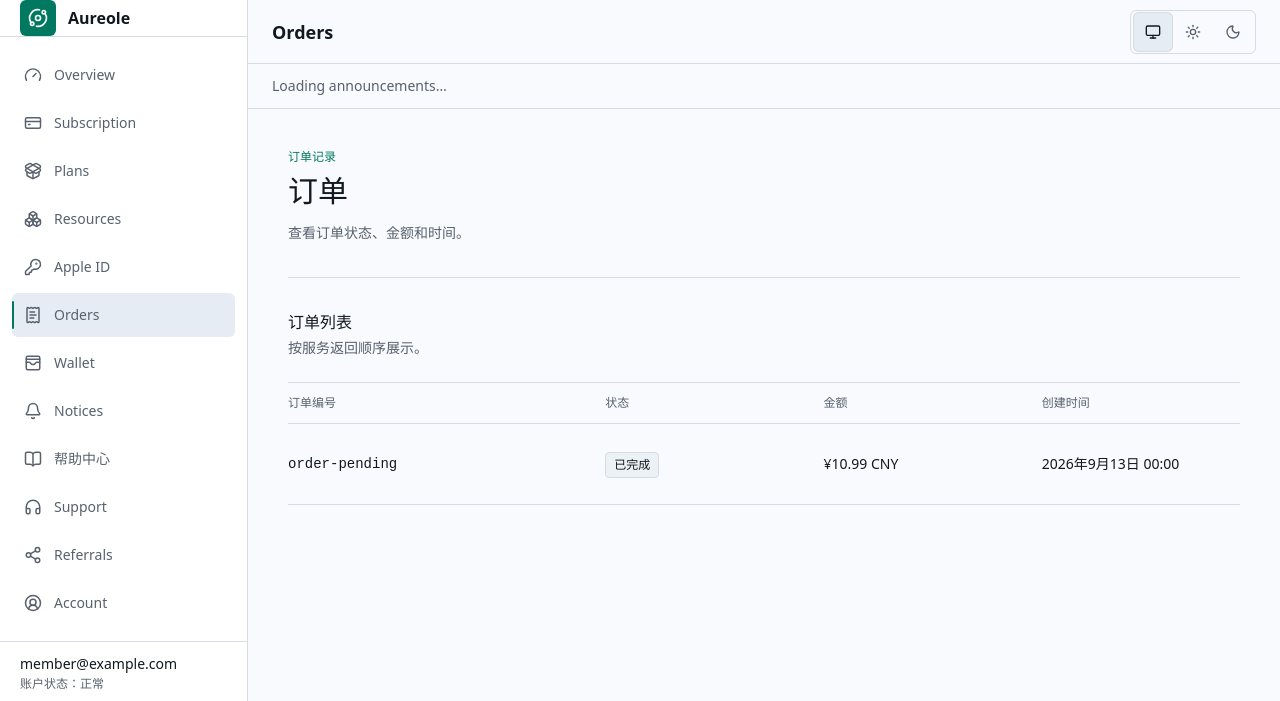
Test: Order Cancel flow › does not offer Cancel for authoritative completed Detail
Click the button "order-pending 已完成 ¥10.99 CNY 2026年9月13日 00:00" at (343, 464), box [288, 424, 1240, 504]
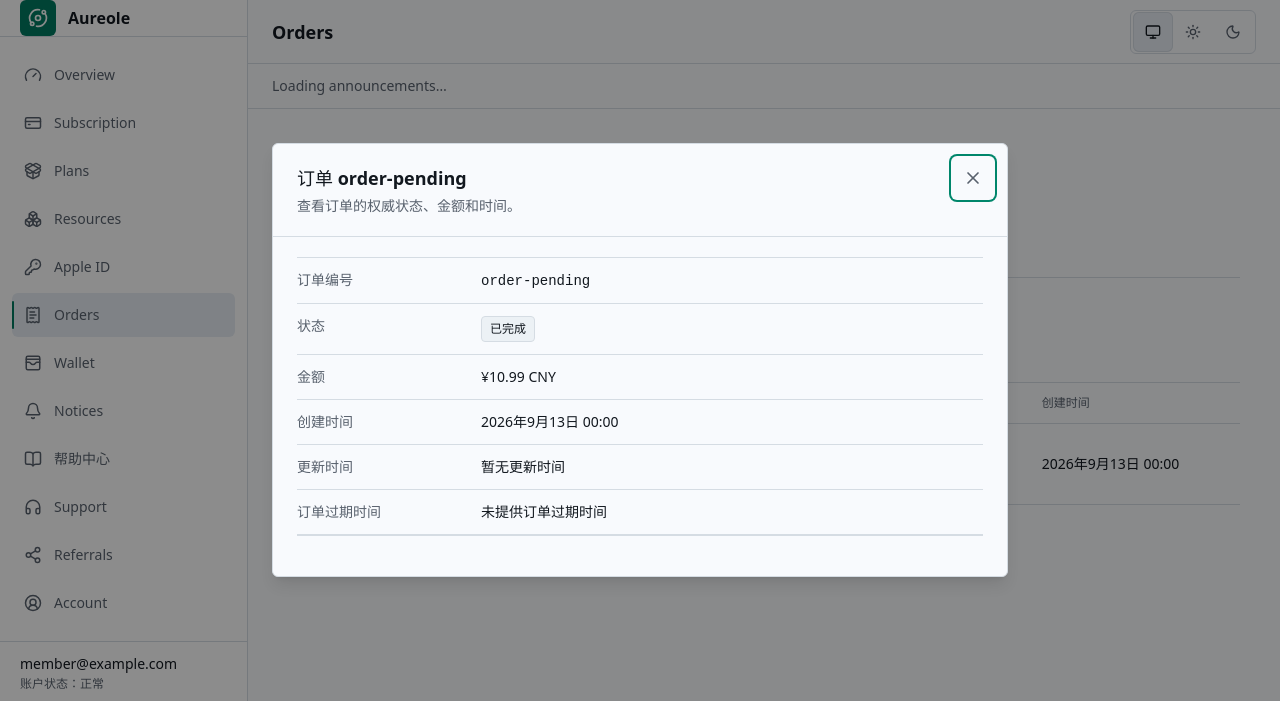
Now the heading "订单 order-pending" is shown, box [297, 166, 467, 190]
Now the text "已完成" is shown, box [481, 316, 535, 342]
